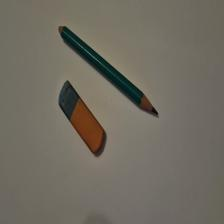eraser: (60, 81, 106, 155)
pencil: (60, 26, 160, 116)
